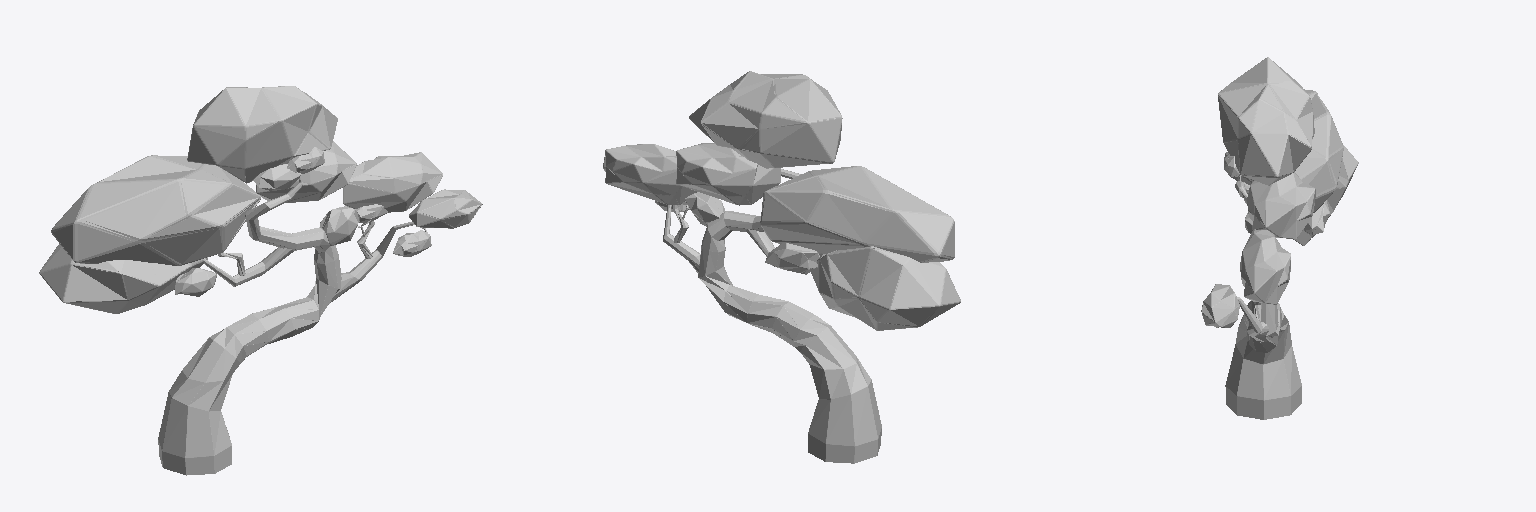
Rendered from ctree_pr2.obj.
3 renders of one model, left to right at view 1: azimuth 30°, elevation 25°; view 2: azimuth 150°, elevation 25°; view 3: azimuth 270°, elevation 25°, orthographic.
Parts seen in each view (by area): view 1: ctree_pr2_Tree2; view 2: ctree_pr2_Tree2; view 3: ctree_pr2_Tree2.
Boxes of the visible parts, <box> form: ctree_pr2_Tree2: <box>39,86,482,475</box>; ctree_pr2_Tree2: <box>603,71,960,463</box>; ctree_pr2_Tree2: <box>1201,57,1358,419</box>.
Size of the model in its own units: 11.48 by 10.24 by 4.02.